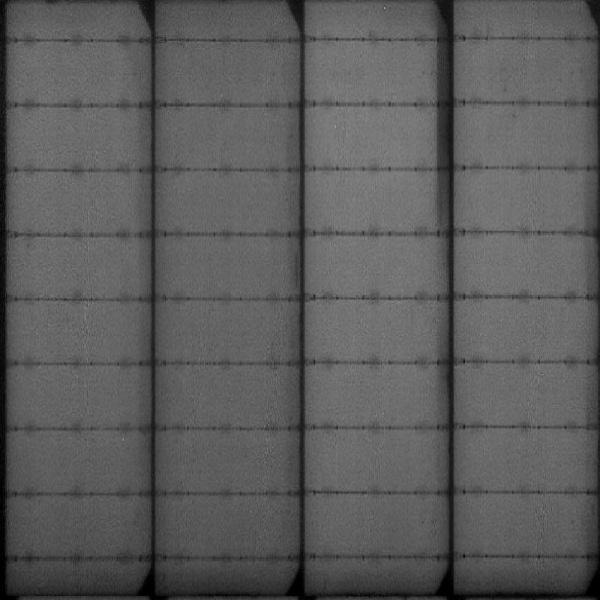black_border: (431, 30, 455, 233)
